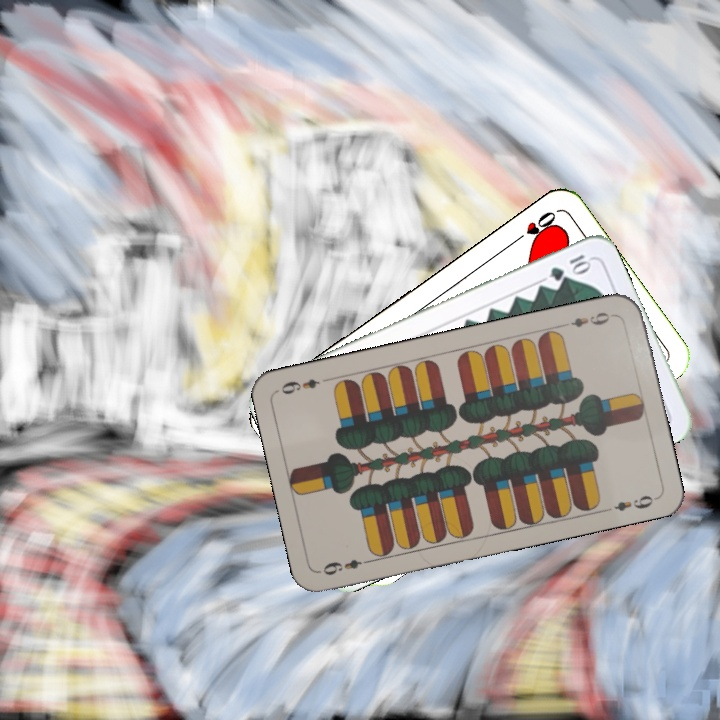E9: (318, 555, 375, 578), (559, 308, 617, 330)
G10: (545, 250, 594, 284)
HO: (508, 207, 559, 247)
